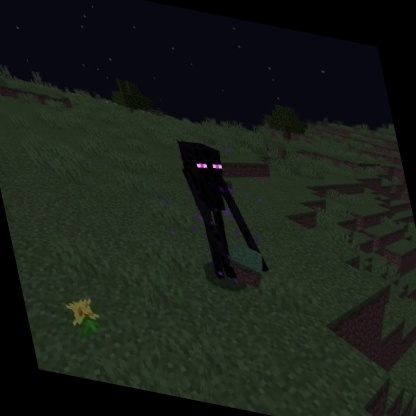enderman: (172, 135, 276, 293)
